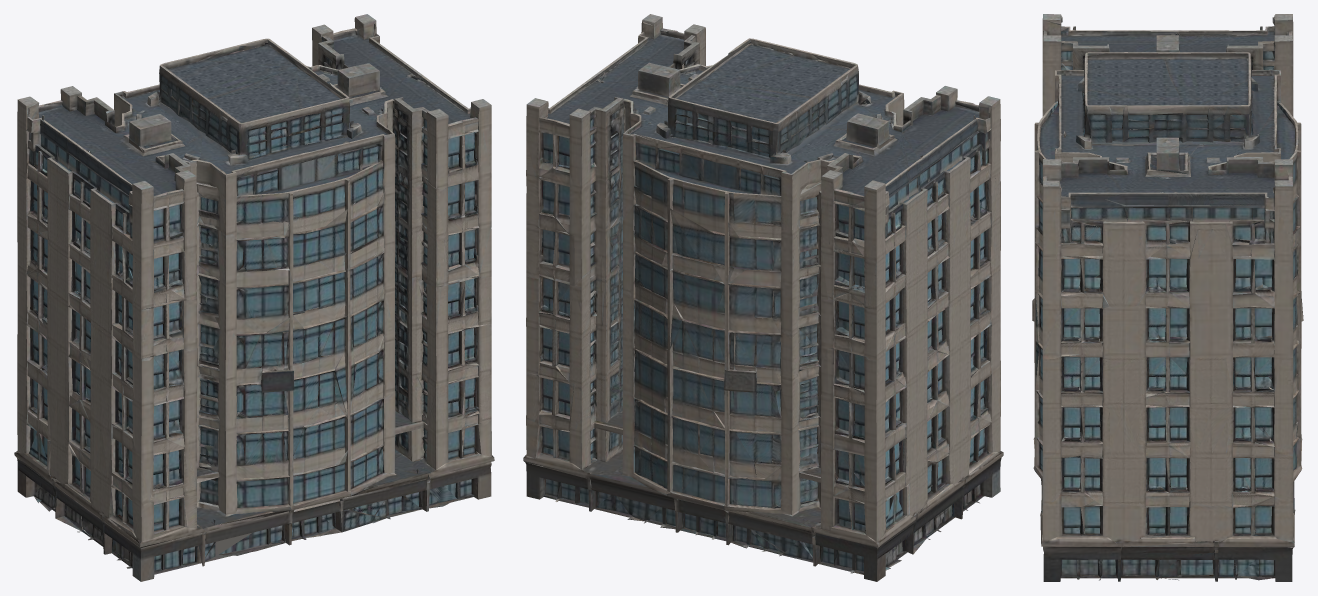
The model's file is city_building_1.glb.
3 renders of one model, left to right at view 1: azimuth 30°, elevation 25°; view 2: azimuth 150°, elevation 25°; view 3: azimuth 270°, elevation 25°, orthographic.
Parts seen in each view (by area): view 1: output_unwrapped; view 2: output_unwrapped; view 3: output_unwrapped.
Part boxes in pixels (x1=…): output_unwrapped: x1=14, y1=14, x2=494, y2=581; output_unwrapped: x1=523, y1=14, x2=1003, y2=581; output_unwrapped: x1=1032, y1=14, x2=1303, y2=581.
Bounding box in the file's own units: 1.7 × 1.89 × 1.12.
Materials: 1 (1 with a texture image).
